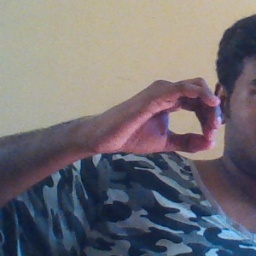O: (98, 67, 222, 159)
